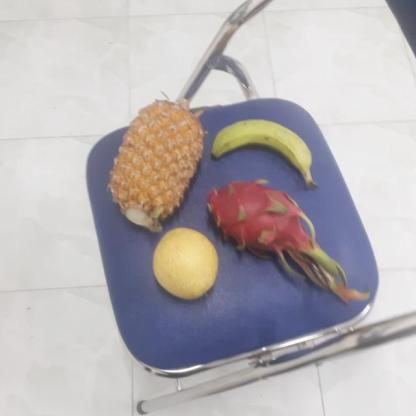banana: (210, 118, 315, 184)
pear: (149, 229, 220, 299)
pineapple: (107, 100, 203, 232)
pitaya: (200, 180, 312, 266)
